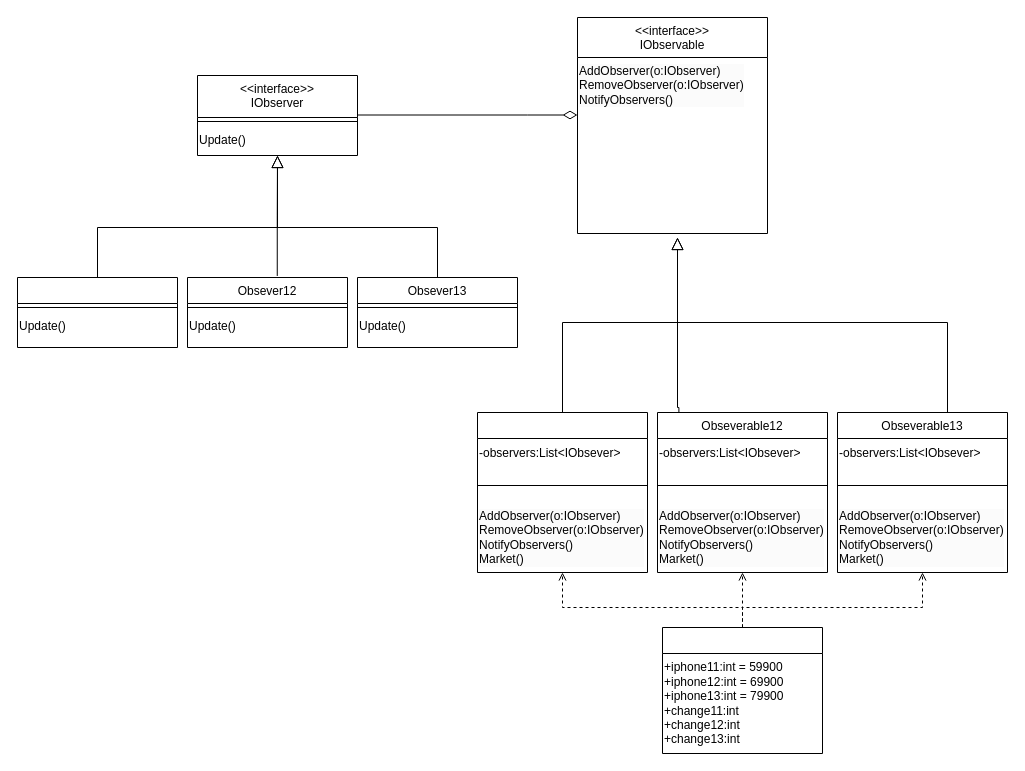
The diagram is 1025 pixels wide and 771 high, and some of its shapes have lost their labels. The shapes that lost their labels are listed below. From the top down, each one's box as (x1, y1, x2, y2) in pixels, then its label:
(16, 276, 178, 348): Obsever11
(476, 412, 648, 572): Obseverable11
(662, 626, 822, 754): Price
